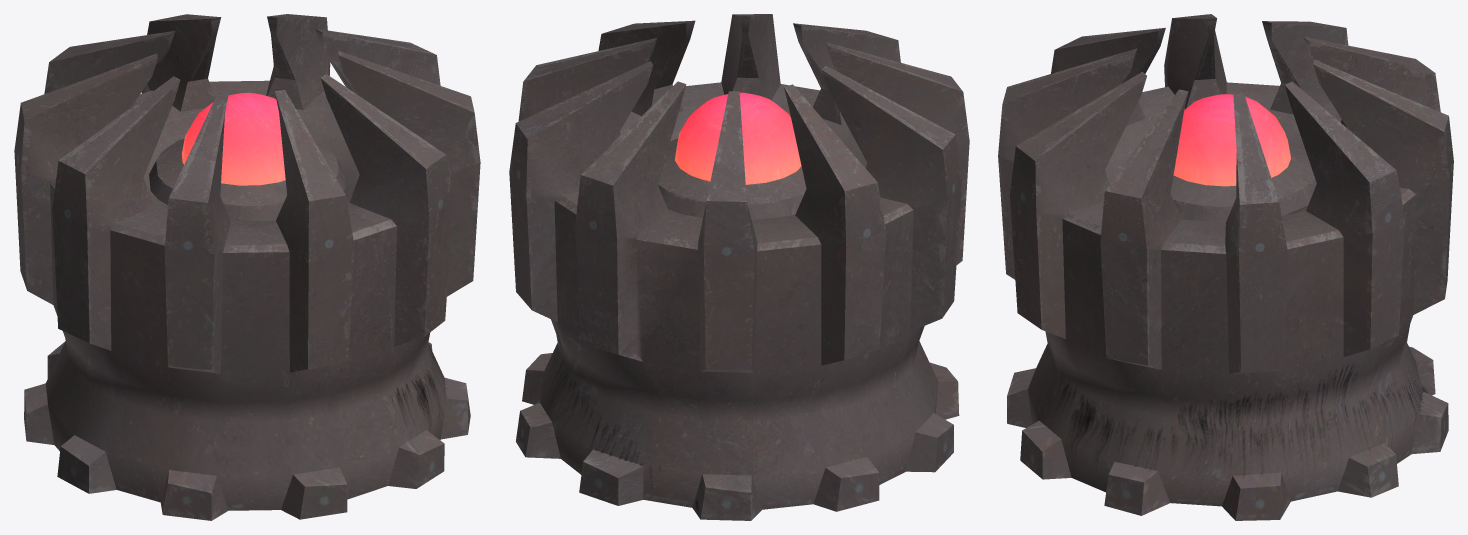
Rendered from mineRed.fbx.
3 renders of one model, left to right at view 1: azimuth 30°, elevation 25°; view 2: azimuth 150°, elevation 25°; view 3: azimuth 270°, elevation 25°, orthographic.
Visible parts, largest first — view 1: pSphere6; view 2: pSphere6; view 3: pSphere6.
Boxes of the visible parts, x1=… form: pSphere6: x1=14, y1=14, x2=480, y2=520; pSphere6: x1=509, y1=14, x2=969, y2=520; pSphere6: x1=998, y1=14, x2=1453, y2=520.
Size of the model in its own units: 306 by 272 by 301.
Materials: 1 (1 with a texture image).
